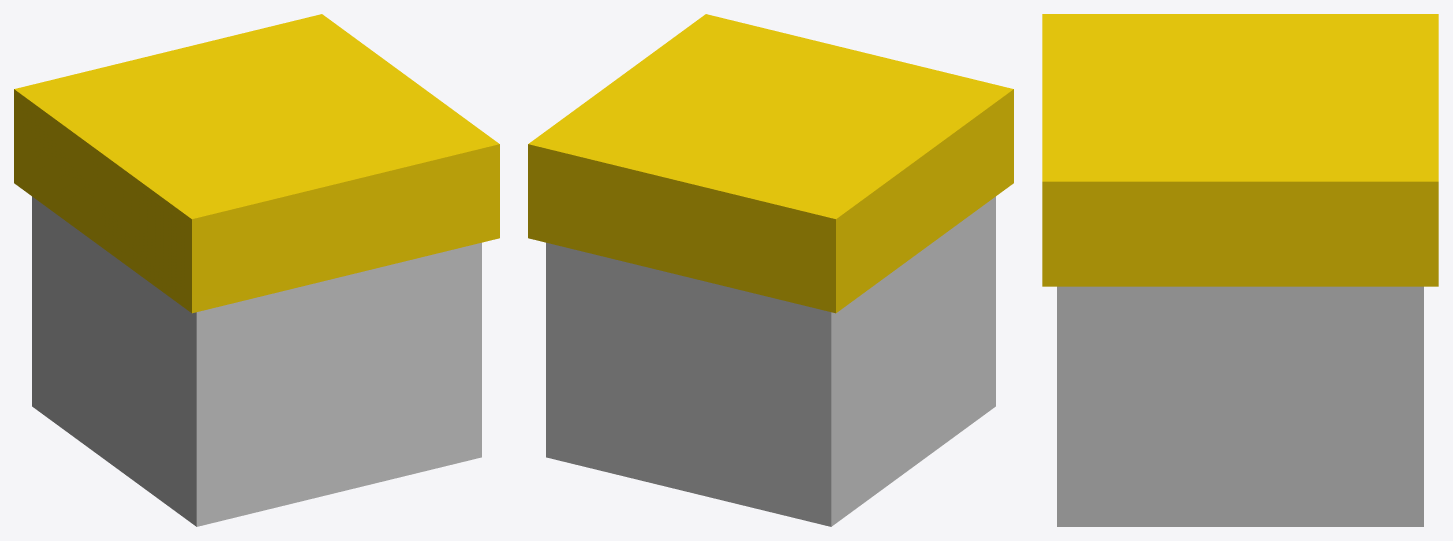
File: gridmap_floor_block.gltf
3 renders of one model, left to right at view 1: azimuth 30°, elevation 25°; view 2: azimuth 150°, elevation 25°; view 3: azimuth 270°, elevation 25°, orthographic. The views are drawn at different scales.
Parts seen in each view (by area): view 1: Cube; view 2: Cube; view 3: Cube.
Part boxes in pixels (box(x1,y1,x2,y2)): Cube: box(14, 14, 499, 526); Cube: box(528, 14, 1013, 526); Cube: box(1042, 14, 1438, 526).
Bounding box in the file's own units: 4.32 × 4.23 × 4.32.
